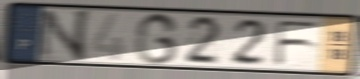2: (183, 15, 223, 67), (229, 17, 269, 67)
4: (90, 11, 128, 63)
F: (272, 19, 322, 68)
G: (132, 11, 181, 66)
N: (36, 8, 95, 63)
